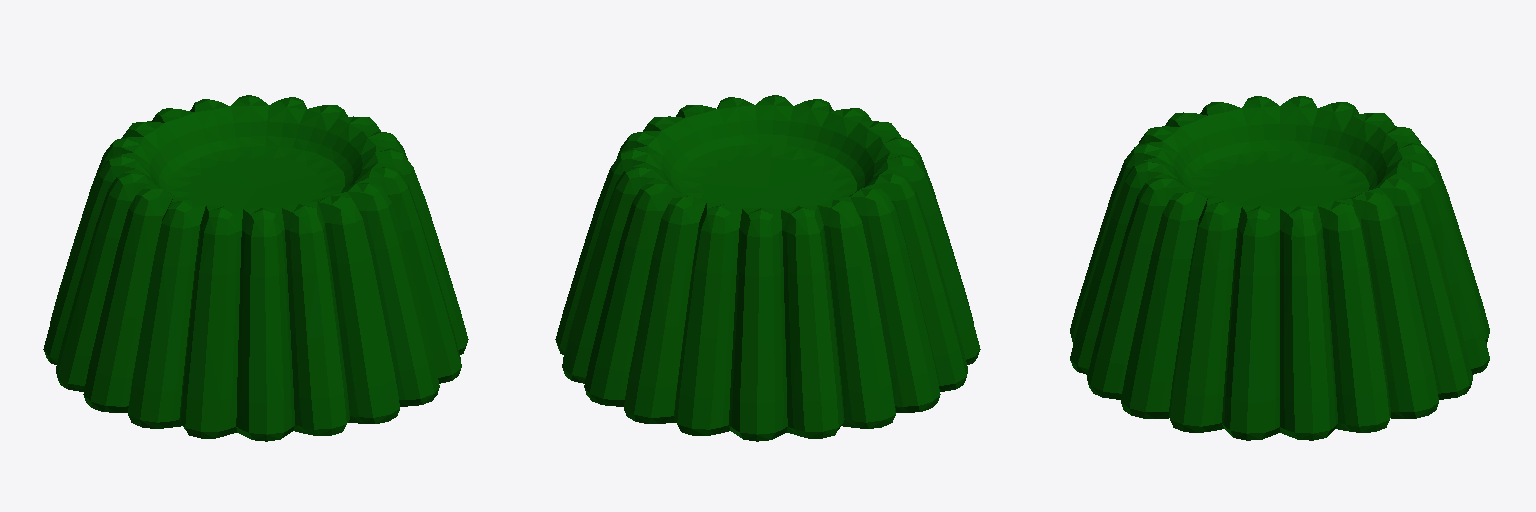
Rendered from Jelly01.obj.
The picture shows the model from 3 angles: view 1: azimuth 30°, elevation 25°; view 2: azimuth 150°, elevation 25°; view 3: azimuth 270°, elevation 25°; orthographic projection.
Visible parts, largest first — view 1: Jelly01_Cylinder.010; view 2: Jelly01_Cylinder.010; view 3: Jelly01_Cylinder.010.
Boxes of the visible parts, box(x1,y1,x2,y2) form: Jelly01_Cylinder.010: box(43, 95, 468, 441); Jelly01_Cylinder.010: box(555, 95, 980, 441); Jelly01_Cylinder.010: box(1070, 96, 1489, 440).
Bounding box in the file's own units: 6.22 × 3.37 × 6.22.